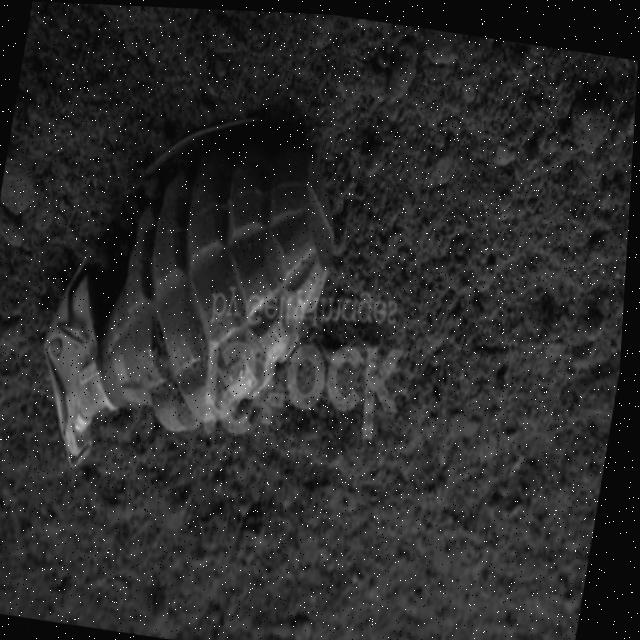grenade: (0, 68, 387, 509)
